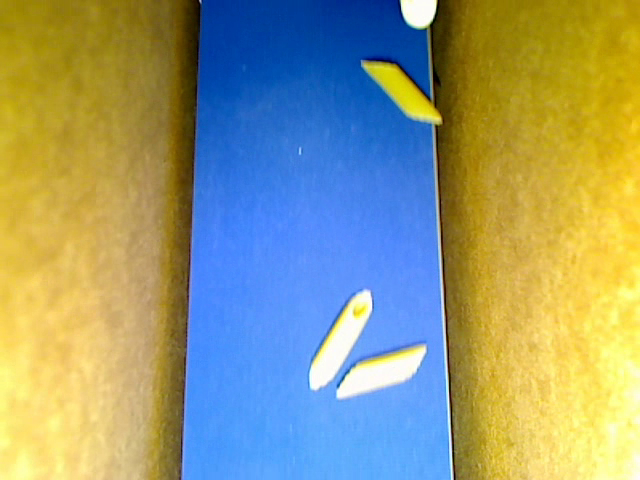penne: (308, 289, 374, 391), (359, 60, 443, 123), (335, 343, 427, 398)
